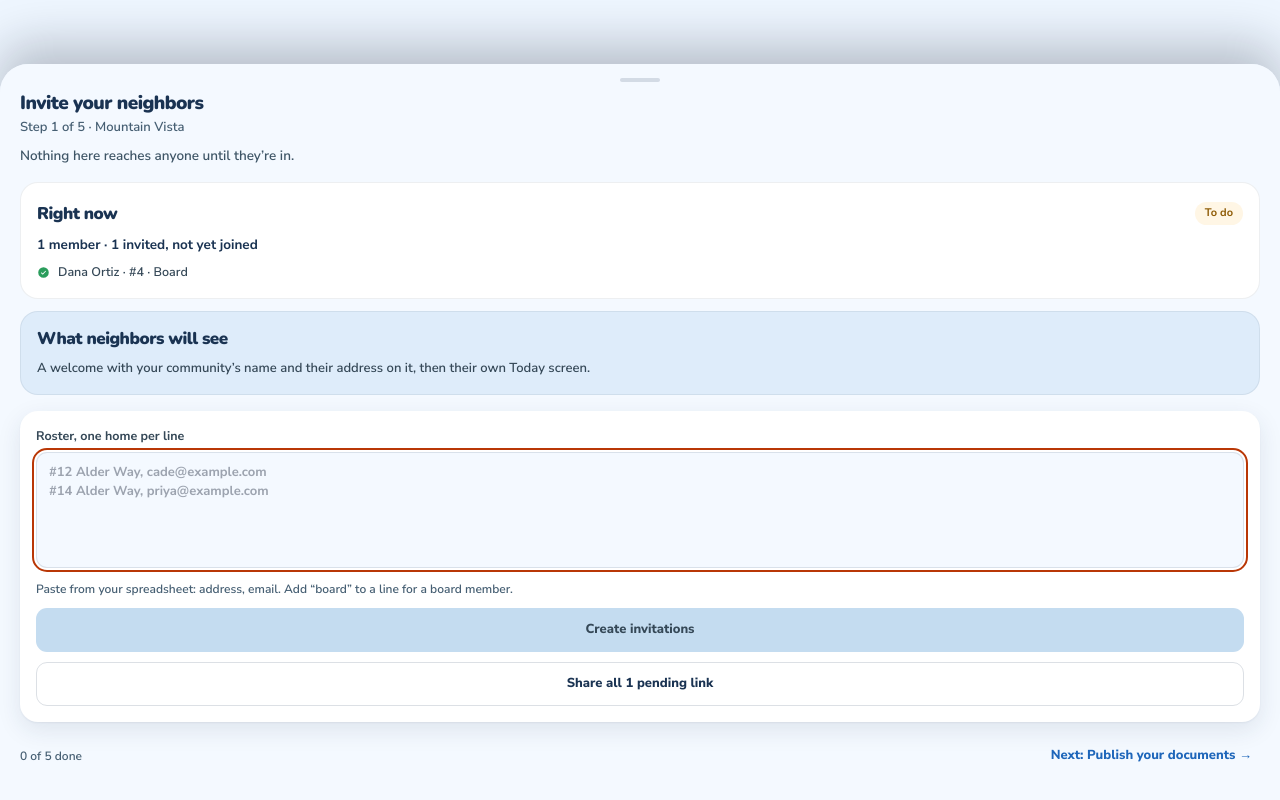
Test case: SetupGuideSheet › walks to the next undone step
(page scrolled)
What coordinates should you click on to do the following:
click the button "Next: Publish your documents →"
I would click on:
 (1151, 756)
Its box is 1043,734 -> 1260,778.
(page scrolled)
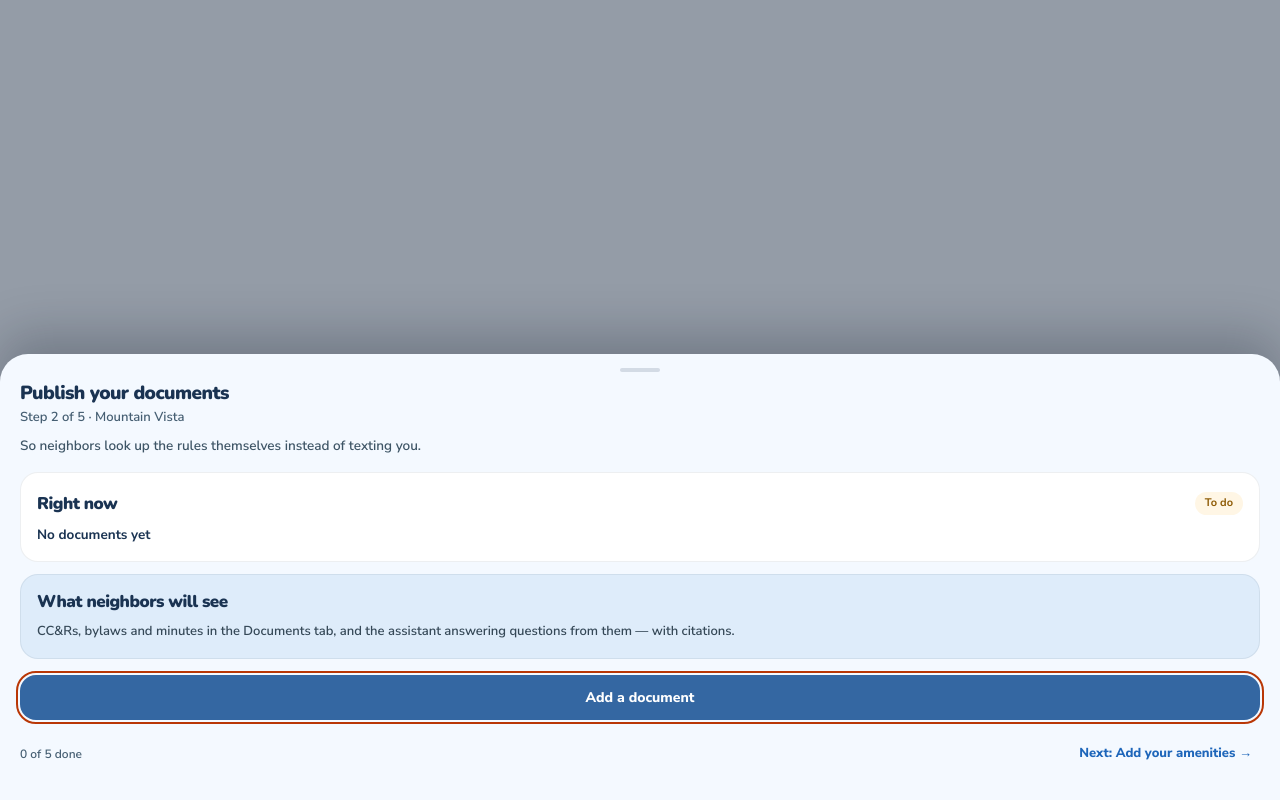
Expected: the text "No documents yet" is shown, 37,525 -> 150,544
Expected: the button "Add a document" is shown, 20,675 -> 1260,720
